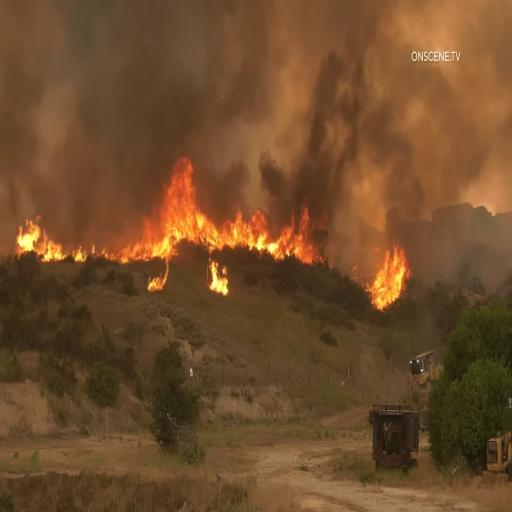fire: (111, 148, 199, 267), (174, 201, 328, 261), (359, 244, 407, 315)
smoke: (250, 19, 359, 176)
